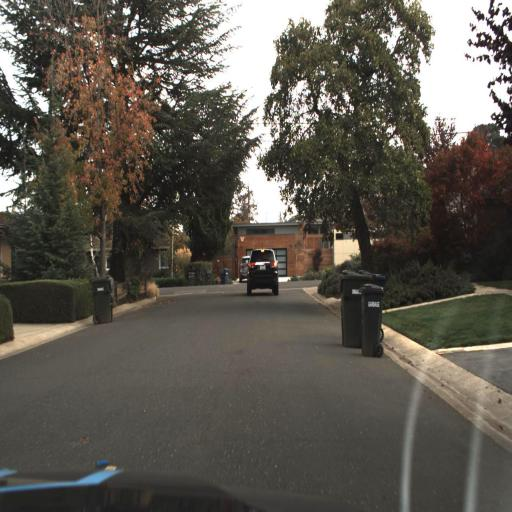car: (242, 237, 284, 302), (230, 248, 254, 296)
